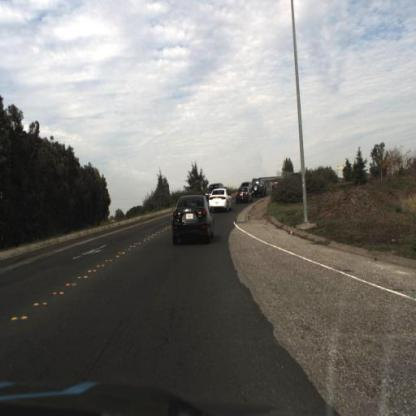car: (171, 196, 215, 247), (208, 186, 233, 214), (253, 173, 270, 199), (236, 186, 252, 207)
